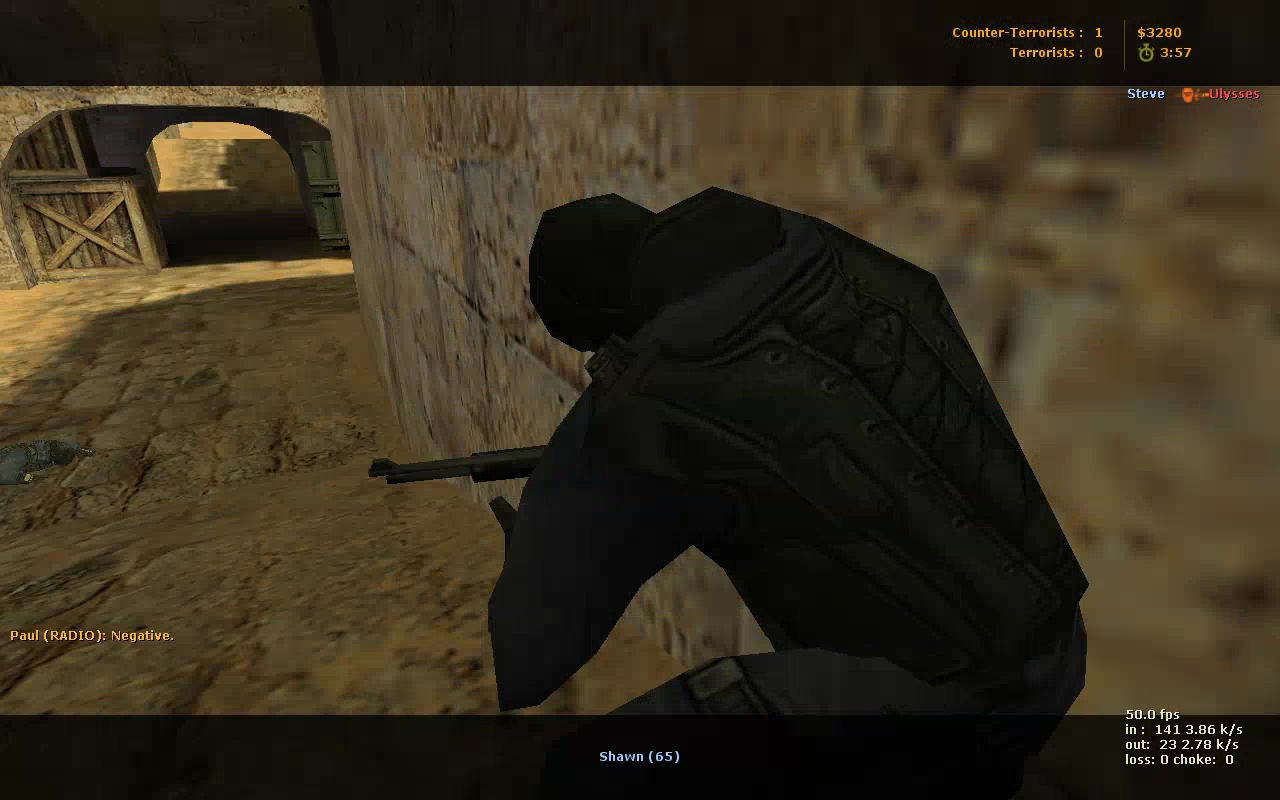ct: (388, 195, 1099, 731)
